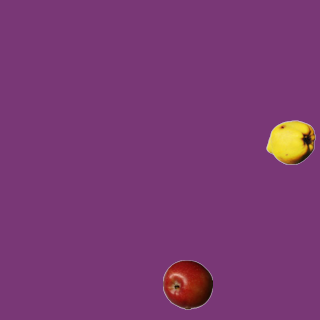Apple Braeburn: (162, 259, 212, 309)
Quince: (265, 117, 315, 167)
